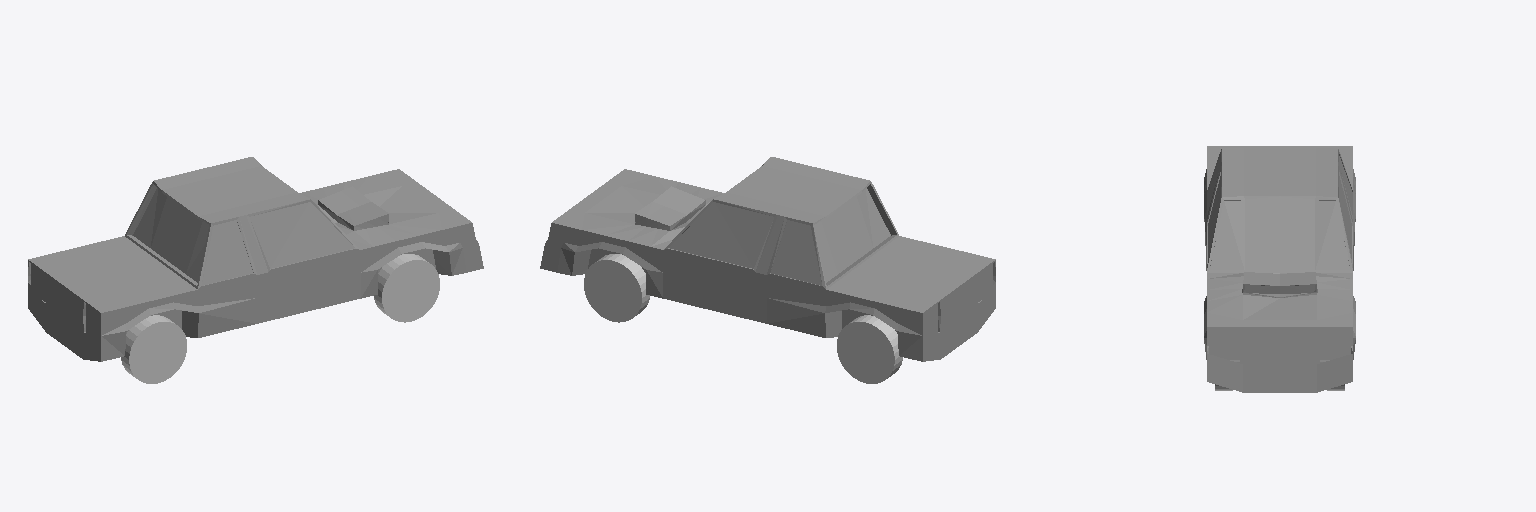
Rendered from car1.obj.
3 views of the same model, side by side, from view 1: azimuth 30°, elevation 25°; view 2: azimuth 150°, elevation 25°; view 3: azimuth 270°, elevation 25° (orthographic).
Visible parts, largest first — view 1: Car_Cube, Wheel.003_Cylinder.004, Wheel.002_Cylinder.003; view 2: Car_Cube, Wheel.001_Cylinder.002, Wheel_Cylinder.001; view 3: Car_Cube.
Boxes of the visible parts, box(x1,y1,x2,y2) form: Car_Cube: box(28, 157, 483, 361); Wheel.003_Cylinder.004: box(374, 254, 439, 322); Wheel.002_Cylinder.003: box(121, 315, 186, 383); Car_Cube: box(540, 157, 995, 361); Wheel.001_Cylinder.002: box(584, 254, 649, 322); Wheel_Cylinder.001: box(837, 315, 902, 383); Car_Cube: box(1204, 146, 1355, 392).
Size of the model in its own units: 6.56 by 2.35 by 2.27.